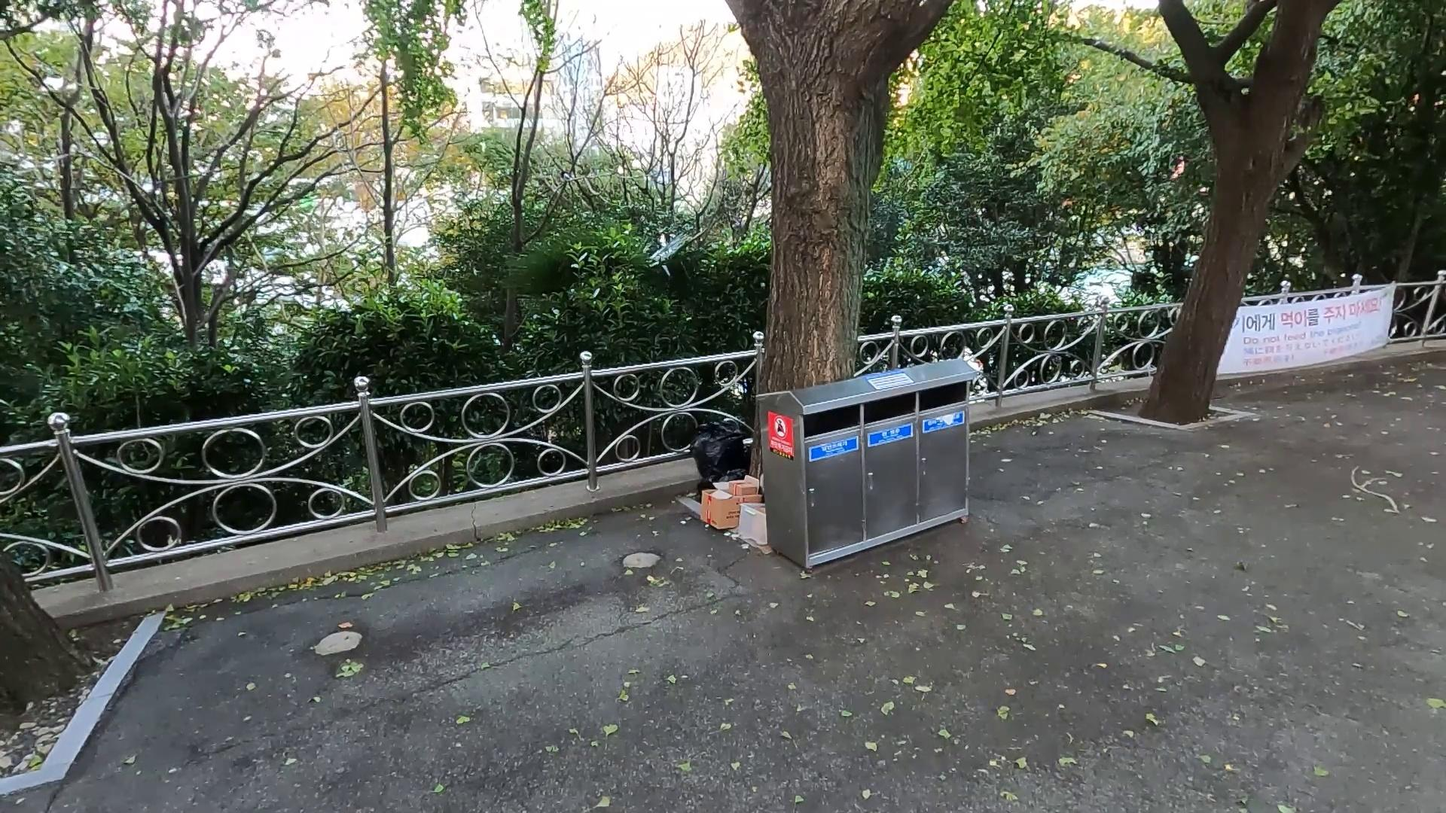trash: (691, 418, 748, 498), (700, 483, 764, 533), (697, 465, 748, 506), (734, 501, 767, 547), (726, 474, 759, 497)
